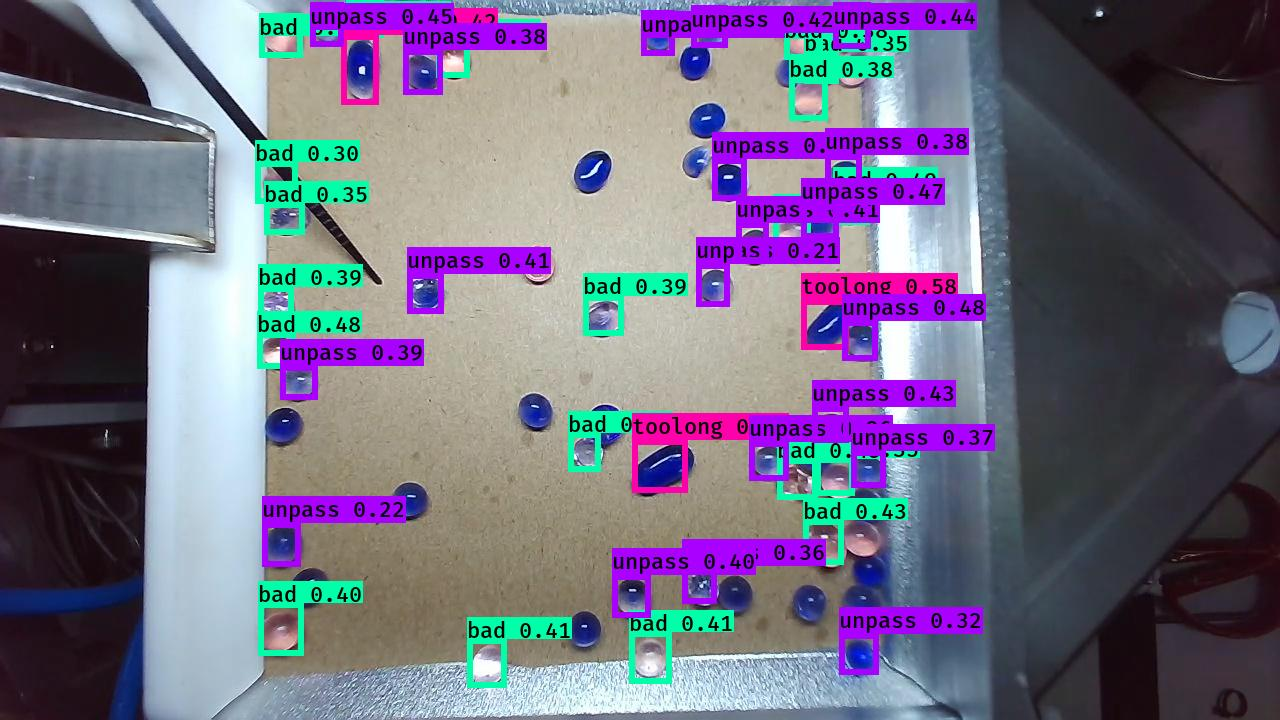bad: (800, 521, 851, 568), (254, 611, 307, 655), (259, 16, 305, 60), (782, 16, 825, 63), (627, 637, 671, 682), (583, 297, 628, 340), (468, 644, 508, 688), (258, 288, 298, 329), (794, 77, 830, 122), (817, 461, 859, 499), (519, 246, 559, 285), (345, 1, 384, 40), (843, 518, 881, 558), (776, 461, 817, 498), (836, 49, 876, 86), (269, 205, 313, 238), (260, 168, 299, 205), (773, 218, 812, 254), (570, 435, 604, 473), (258, 337, 298, 369), (436, 43, 472, 78), (832, 194, 872, 224), (806, 52, 840, 85)
defact: (681, 145, 715, 182)
pass: (567, 147, 615, 197), (582, 401, 626, 445), (261, 526, 304, 569), (263, 408, 306, 449), (287, 568, 330, 609), (515, 391, 554, 435), (389, 482, 430, 523), (843, 583, 884, 624), (716, 573, 754, 616), (846, 487, 889, 523), (687, 100, 726, 139), (566, 609, 604, 649), (791, 584, 827, 626), (793, 435, 828, 475), (678, 42, 710, 82), (852, 561, 891, 592)
toolong: (633, 441, 694, 498), (341, 39, 381, 104), (804, 301, 855, 350)
unpass: (830, 4, 874, 53), (610, 578, 654, 621), (798, 204, 844, 245), (408, 281, 450, 320), (640, 13, 677, 57), (277, 368, 321, 404), (308, 6, 346, 46), (403, 55, 440, 95), (822, 159, 864, 194), (844, 637, 879, 678), (685, 568, 721, 607), (712, 164, 748, 203), (690, 9, 727, 46), (697, 269, 735, 305), (845, 323, 883, 358), (849, 452, 889, 485), (737, 227, 770, 265), (753, 445, 785, 482), (813, 412, 847, 446), (777, 54, 808, 88)
